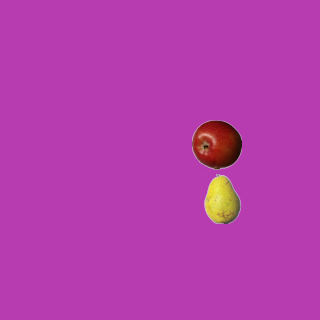Apple Braeburn: (191, 119, 241, 169)
Pear Monster: (197, 173, 247, 223)
